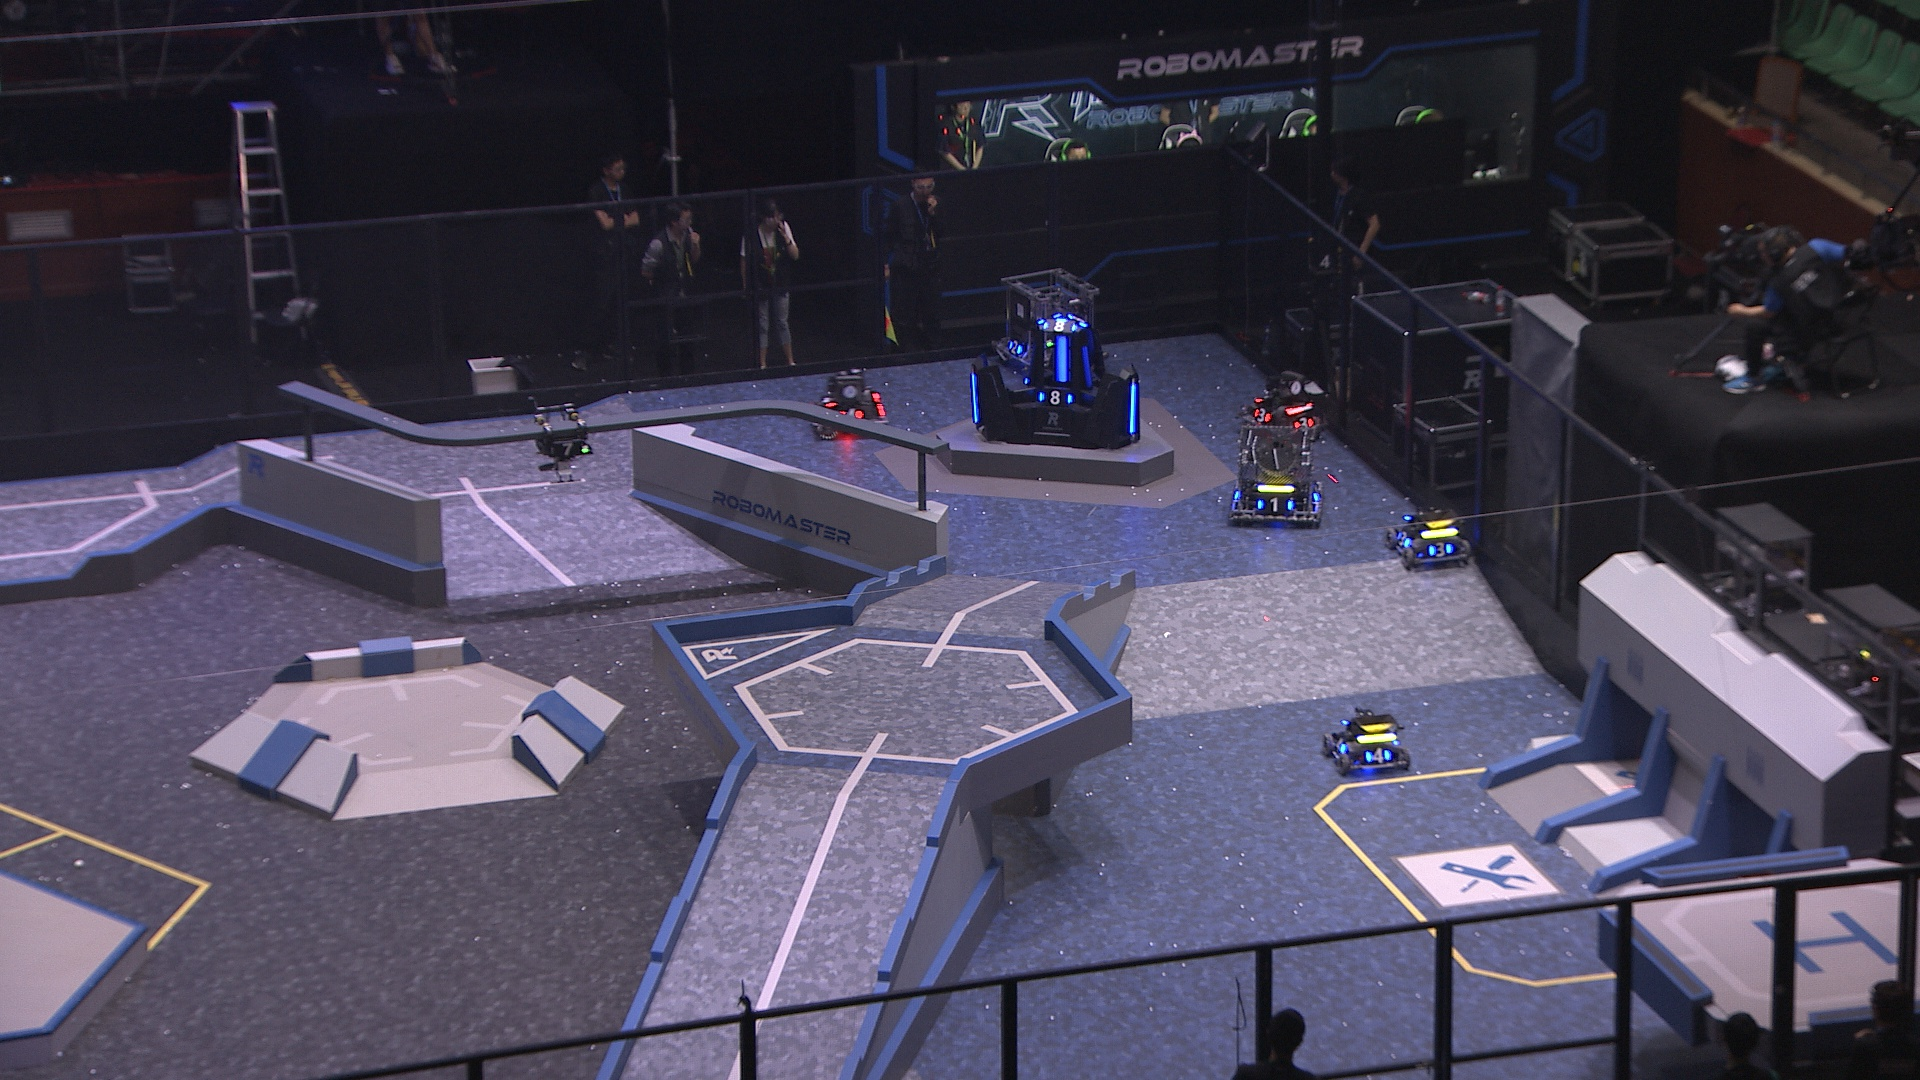armor: (1054, 338, 1076, 385), (549, 438, 589, 460), (1038, 386, 1077, 407), (1254, 496, 1296, 516), (1126, 378, 1141, 433), (969, 368, 981, 425), (1040, 316, 1077, 334), (1364, 744, 1391, 765), (1331, 733, 1352, 760), (839, 406, 866, 425), (1251, 405, 1275, 425), (1425, 541, 1455, 556), (1006, 335, 1026, 357), (822, 390, 840, 413), (1292, 415, 1316, 433), (1393, 527, 1414, 546), (1068, 313, 1091, 328), (1309, 483, 1324, 502), (1251, 392, 1273, 405)
base: (964, 309, 1145, 451)
car: (986, 266, 1106, 382), (1224, 407, 1324, 529), (1240, 365, 1340, 442), (1321, 702, 1414, 775), (1385, 500, 1476, 570), (808, 367, 891, 439)
watcher: (526, 392, 593, 484)
